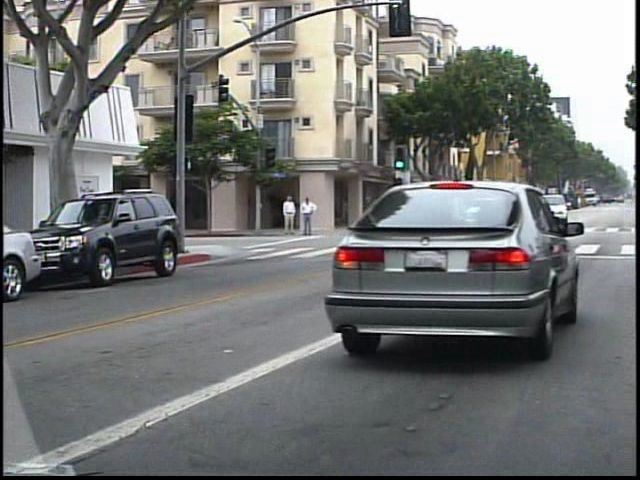person: (295, 193, 314, 240), (278, 192, 296, 237)
